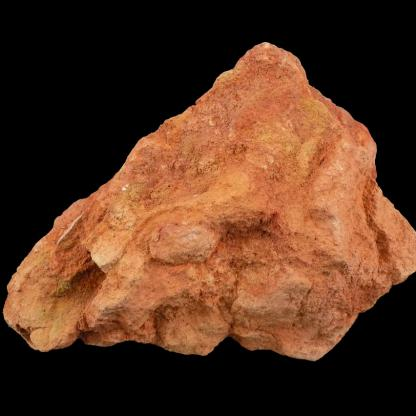Sedimentary_Chalk: (20, 116, 316, 367)
